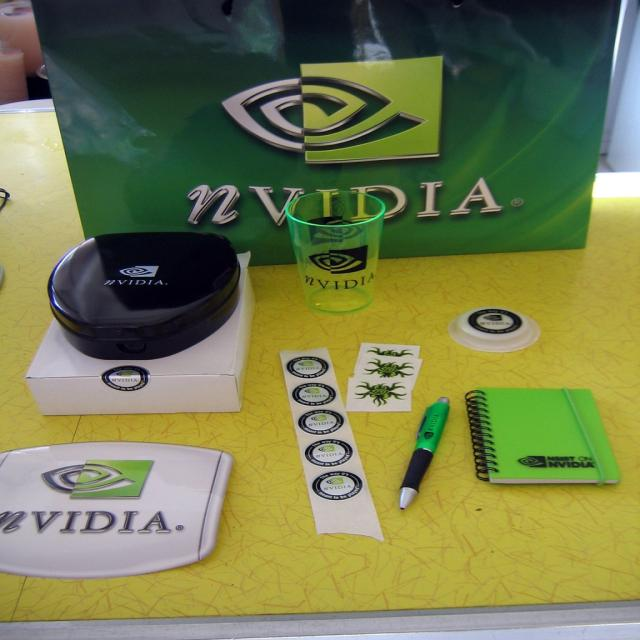nvidia: (219, 57, 443, 164), (40, 460, 156, 501), (308, 245, 370, 276), (119, 266, 161, 279), (518, 456, 548, 469), (325, 476, 347, 487), (312, 415, 333, 425), (318, 445, 340, 454), (305, 389, 325, 397), (485, 314, 505, 322)
